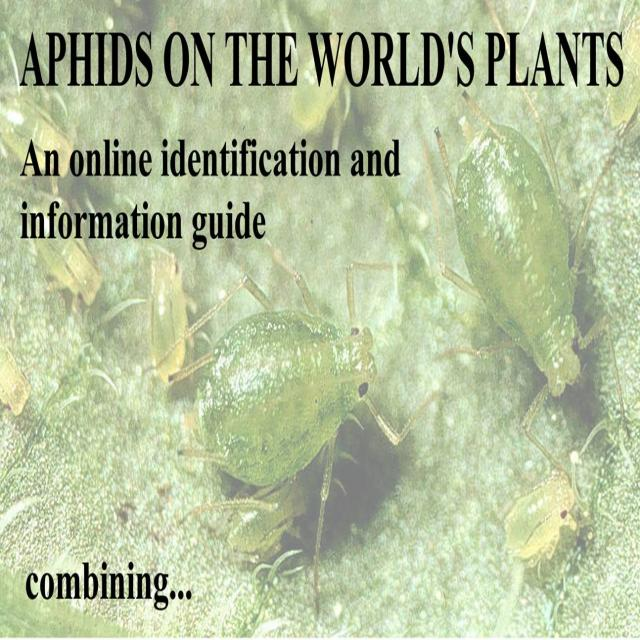Aphid-Grown-: (429, 99, 600, 410), (177, 274, 404, 503), (493, 440, 593, 579)
